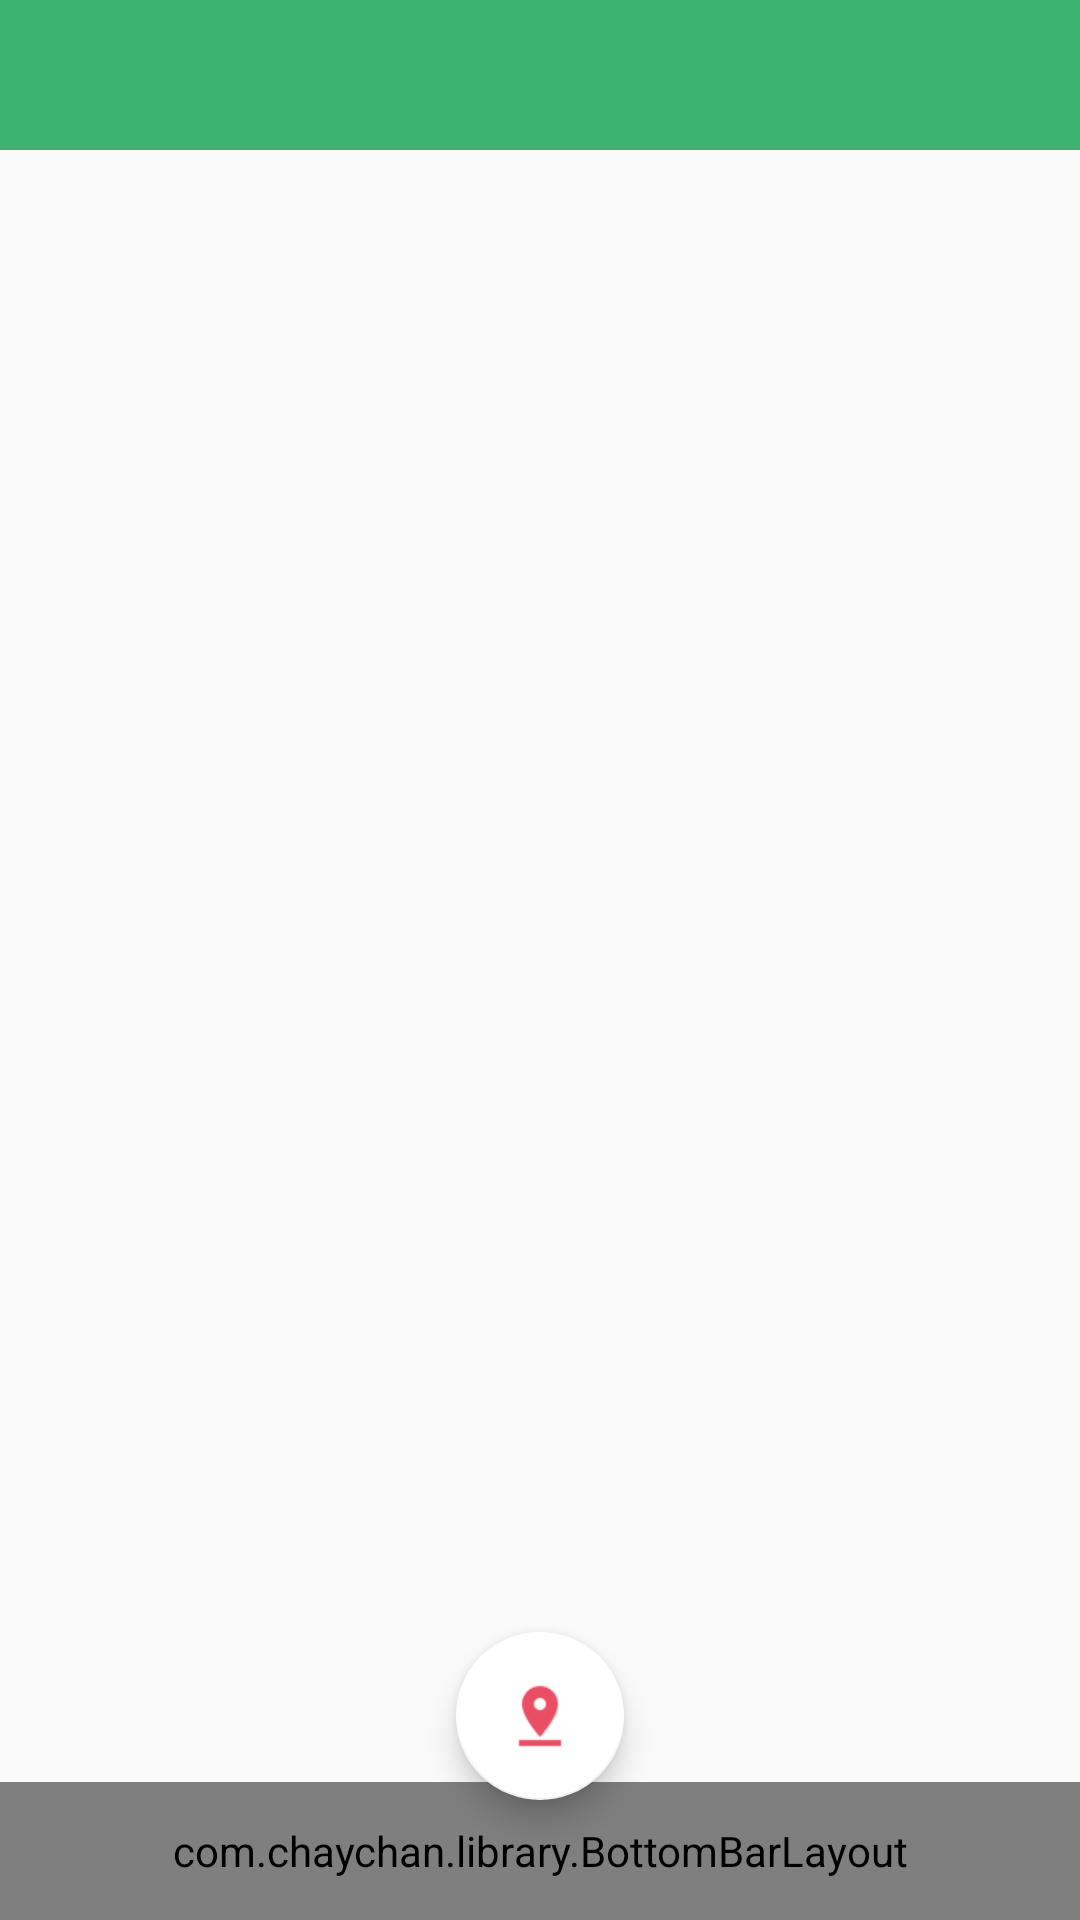

Point at icon controls on the screen. Image size 1080*1920, points as [x,y].
map: [540,1742]
